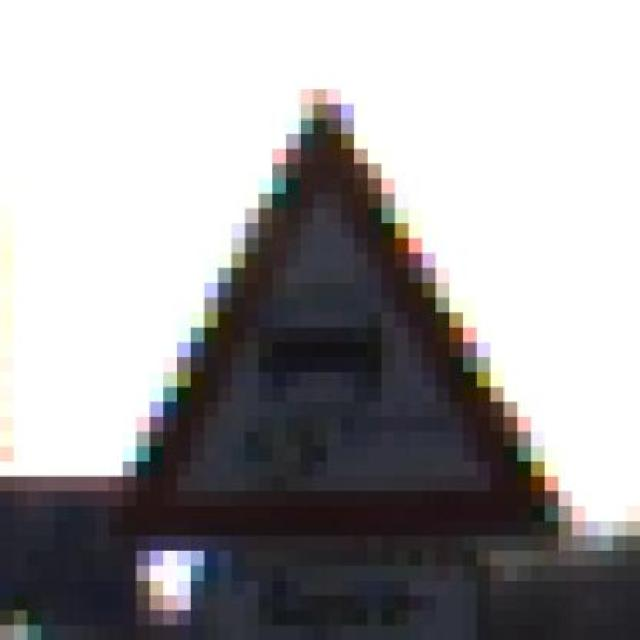Slippery Road Ahead: (95, 89, 572, 551)
